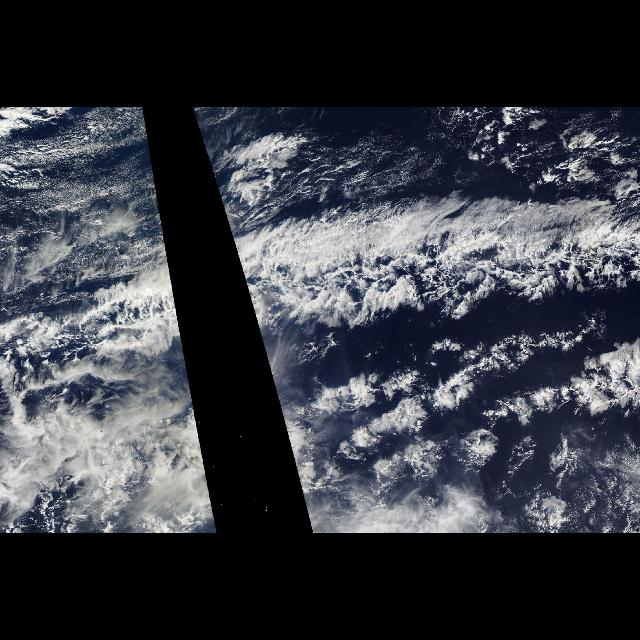Fish: (215, 186, 640, 490), (1, 189, 188, 361)
Flower: (303, 335, 612, 501)
Sugar: (0, 121, 164, 281)
